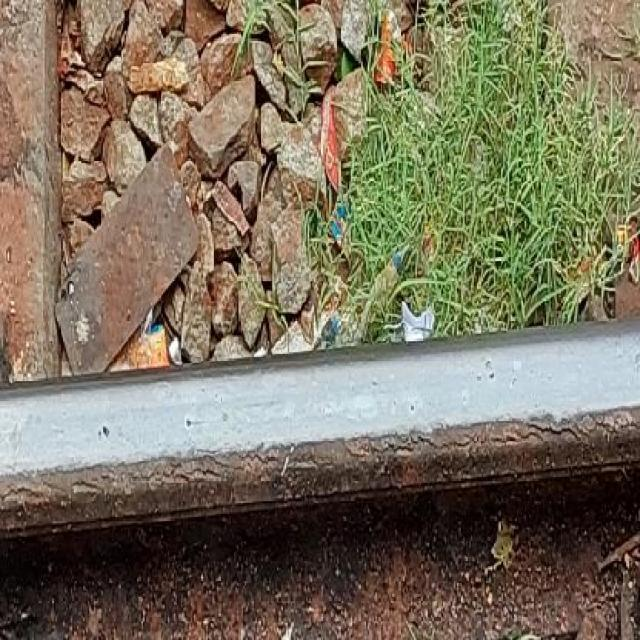defective: (1, 307, 640, 632)
